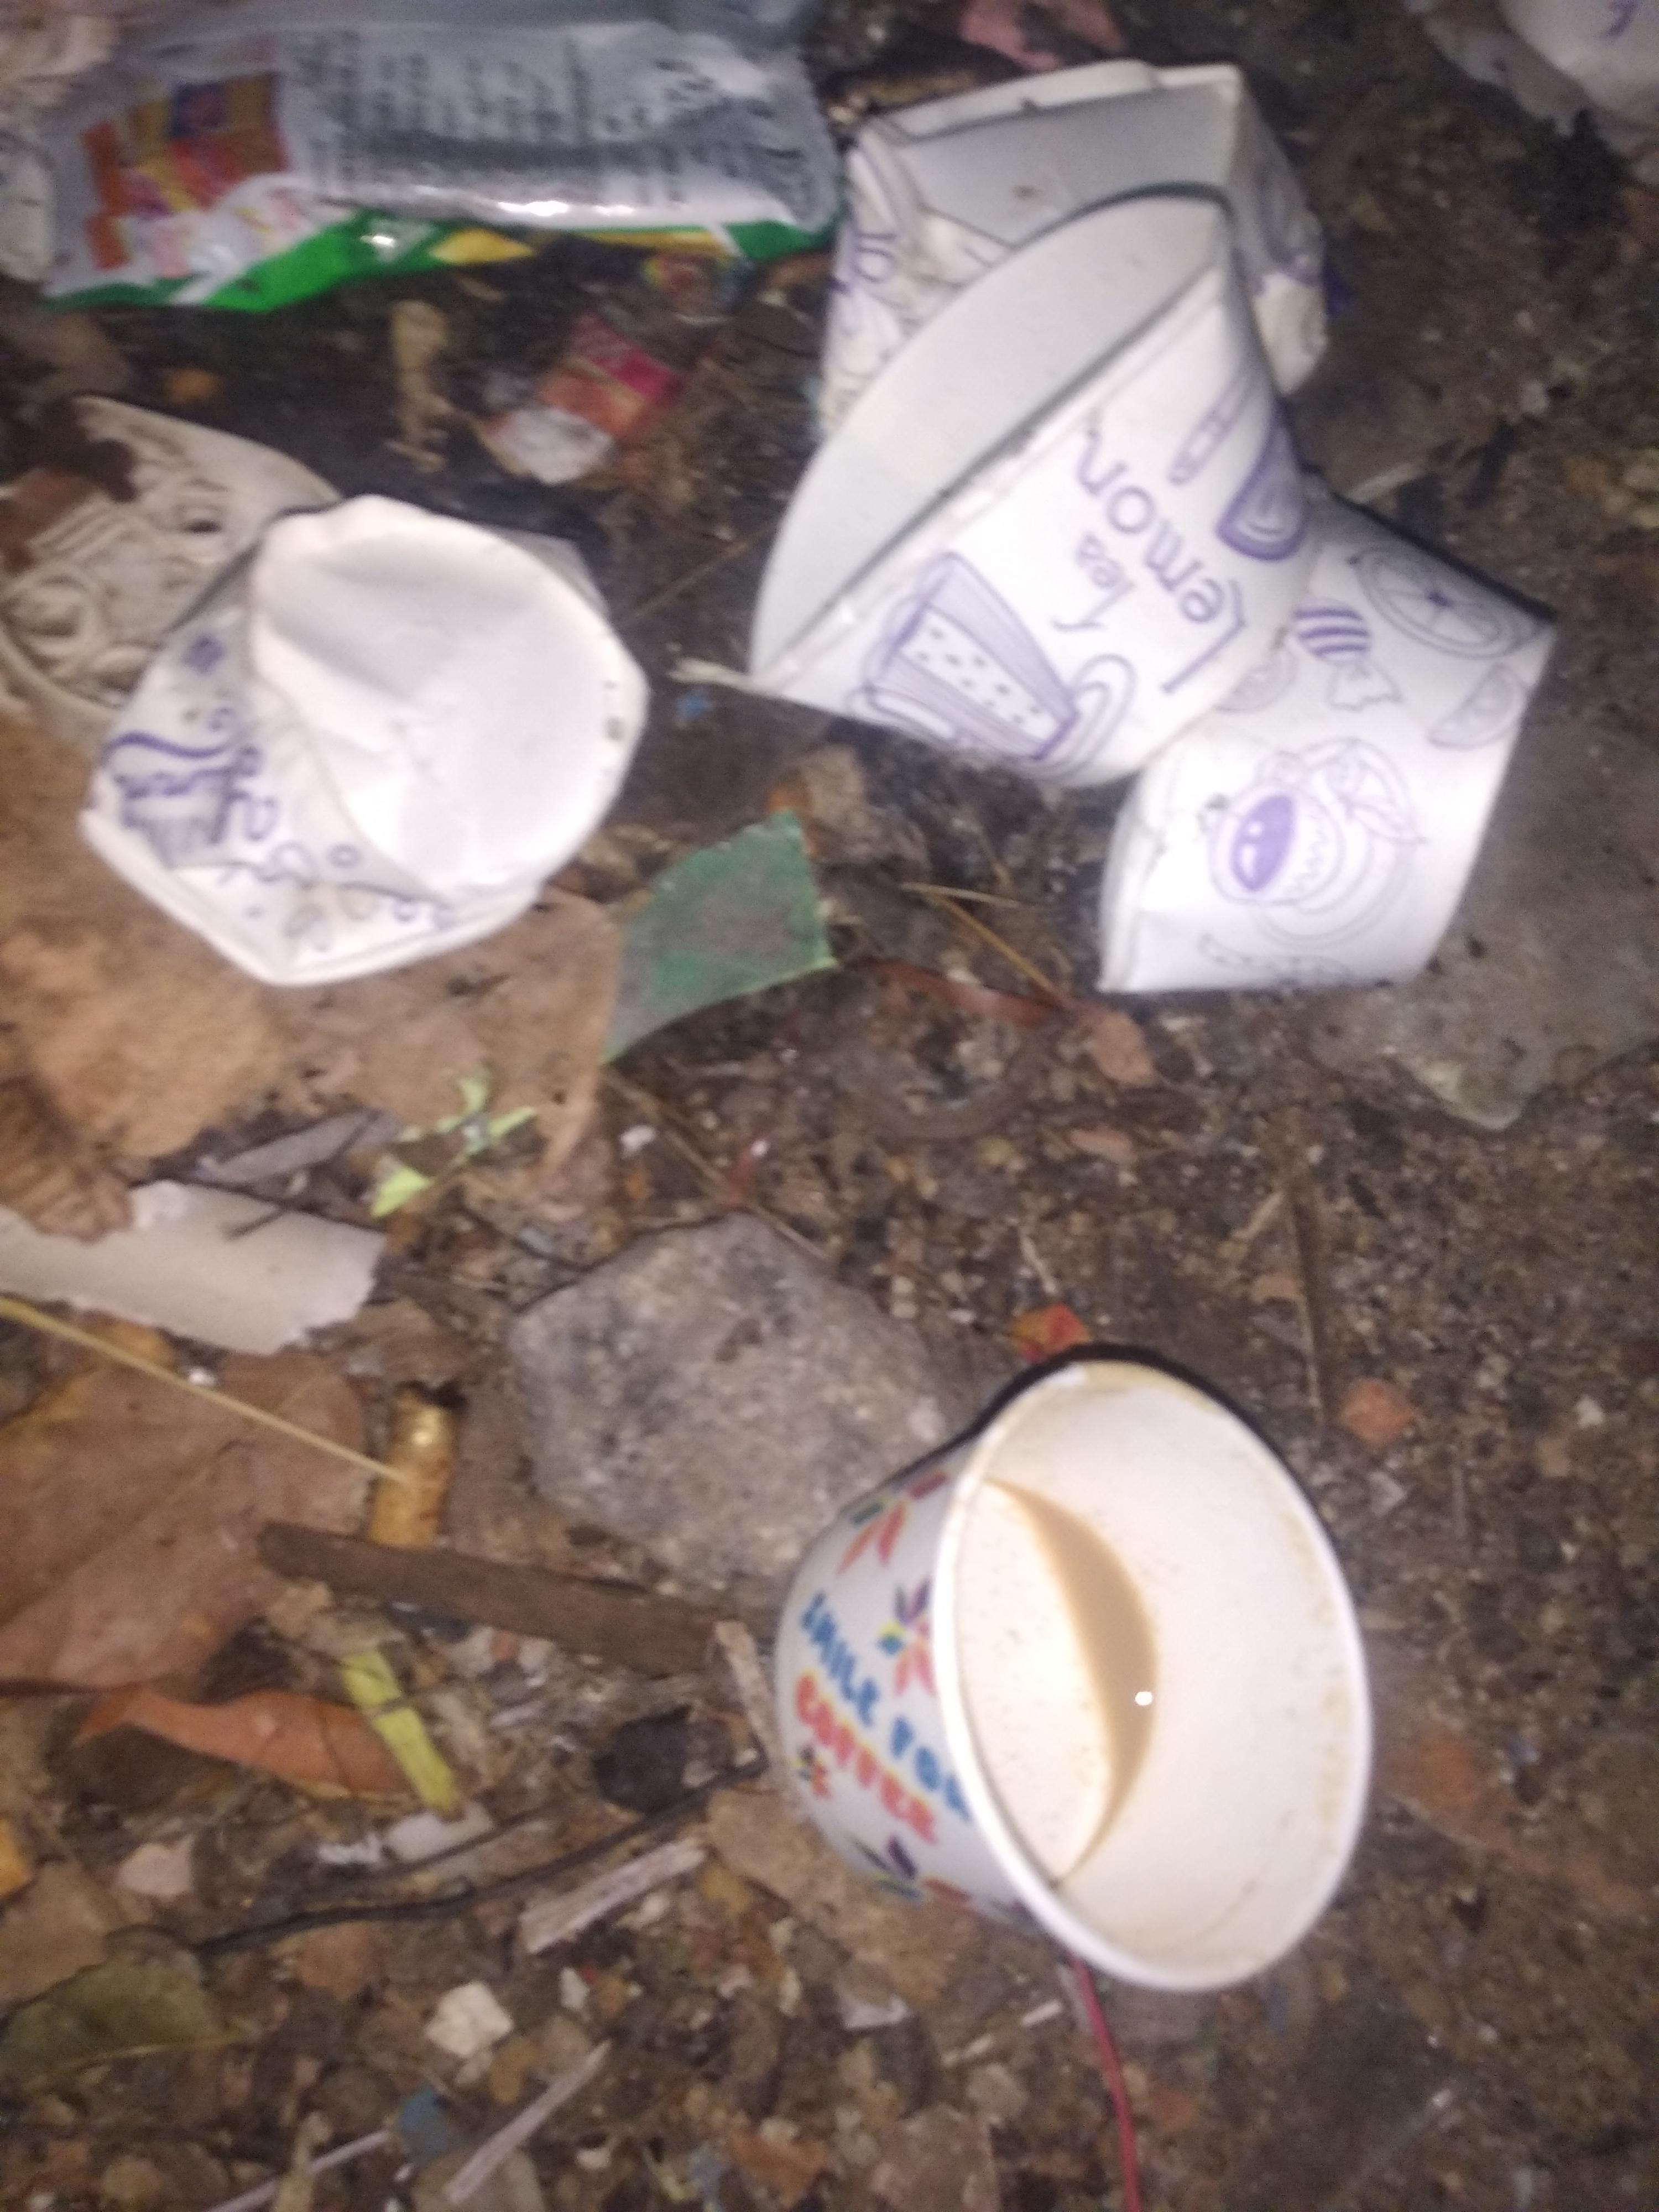trash: (8, 11, 1559, 2009)
